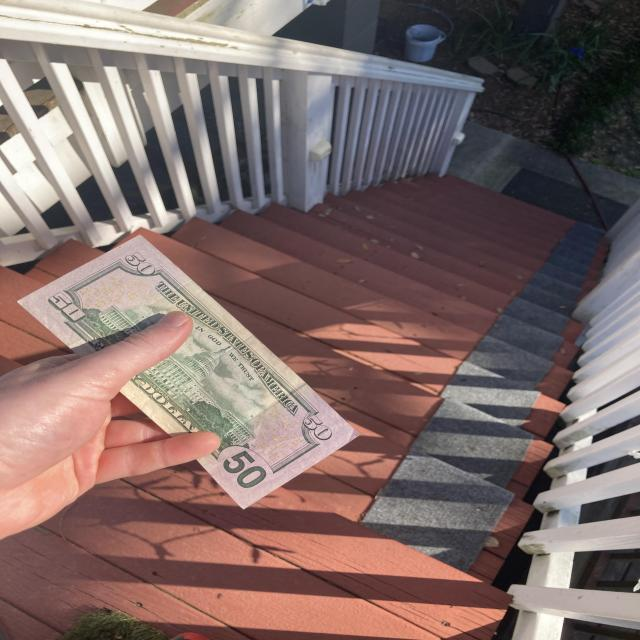fifty: (16, 236, 362, 509)
